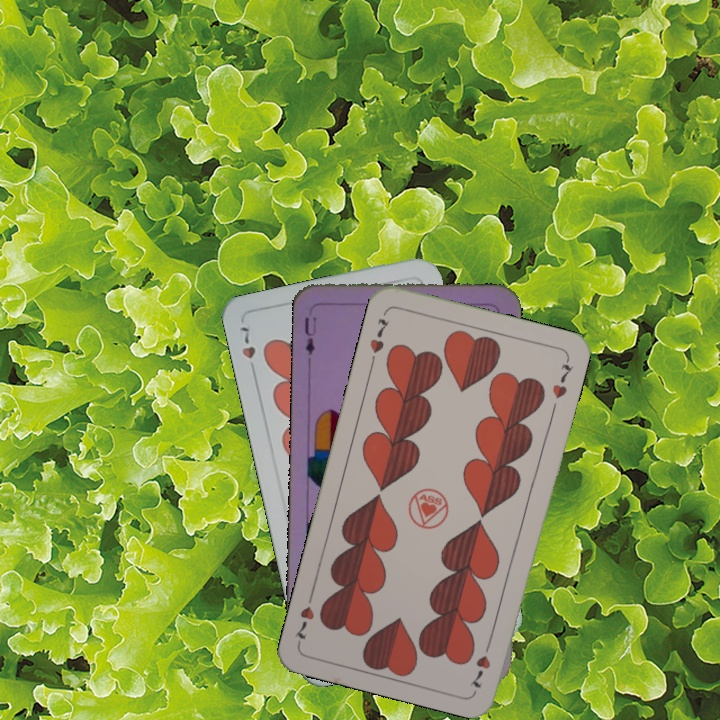EU: (300, 313, 319, 358)
H7: (467, 635, 495, 691), (366, 314, 392, 366), (237, 322, 259, 378)
